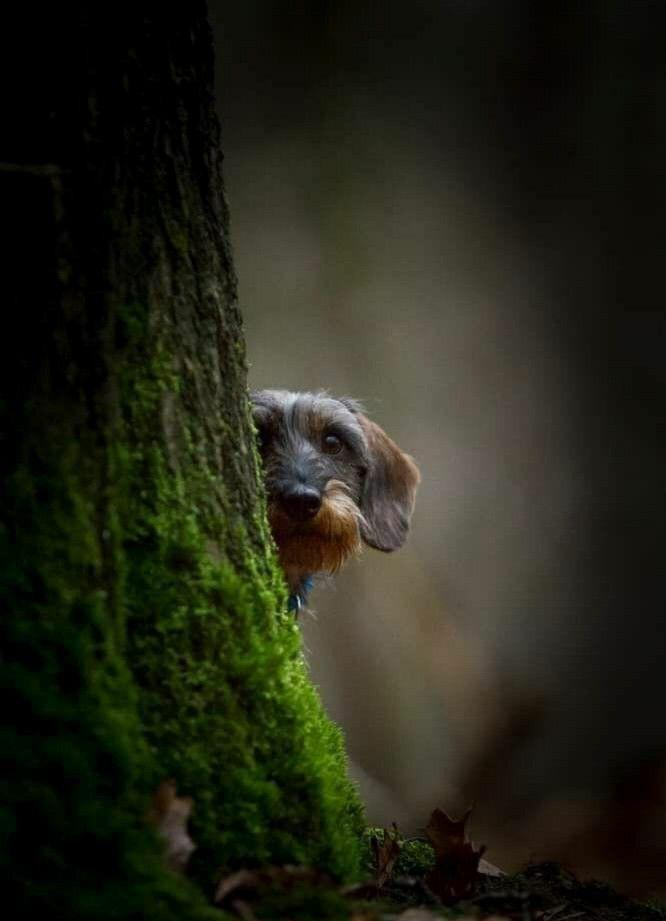adult_dog: (246, 389, 421, 609)
